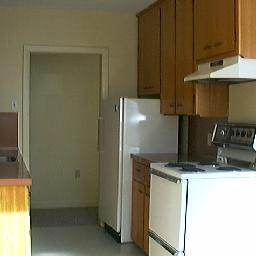Electrodomestico: (150, 128, 255, 253), (99, 97, 125, 232)
